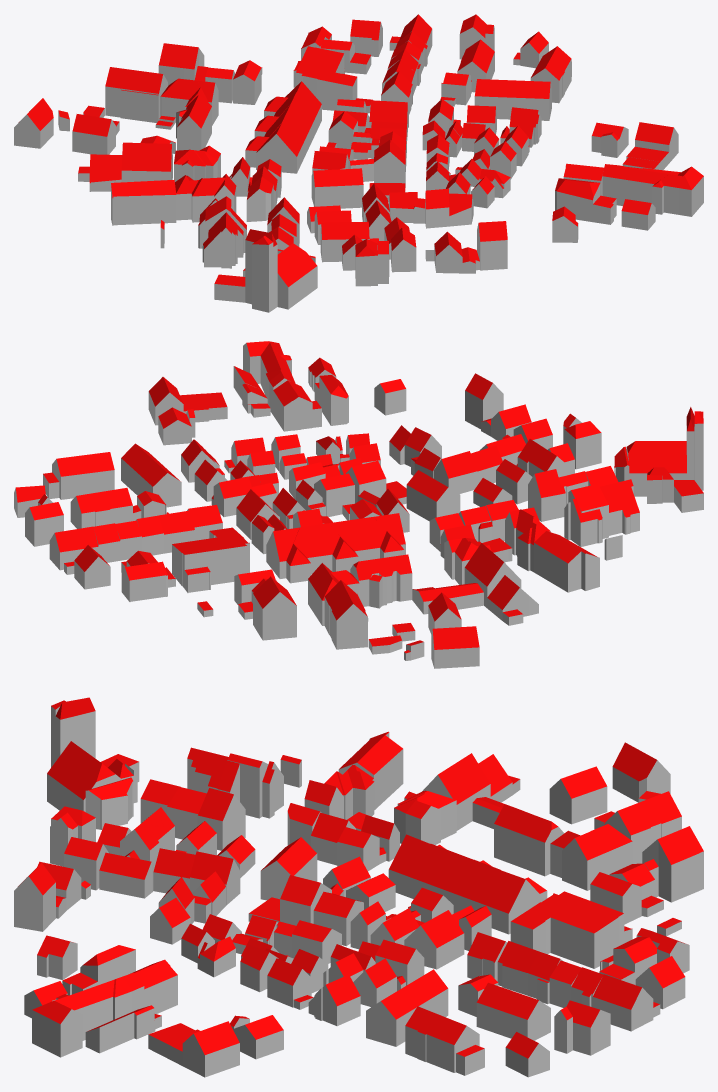
The picture shows the model from 3 angles, top to bottom: view 1: azimuth 30°, elevation 25°; view 2: azimuth 150°, elevation 25°; view 3: azimuth 270°, elevation 25°; orthographic projection. The views are drawn at different scales.
Bounding box in the file's own units: 207 × 29.33 × 198.
